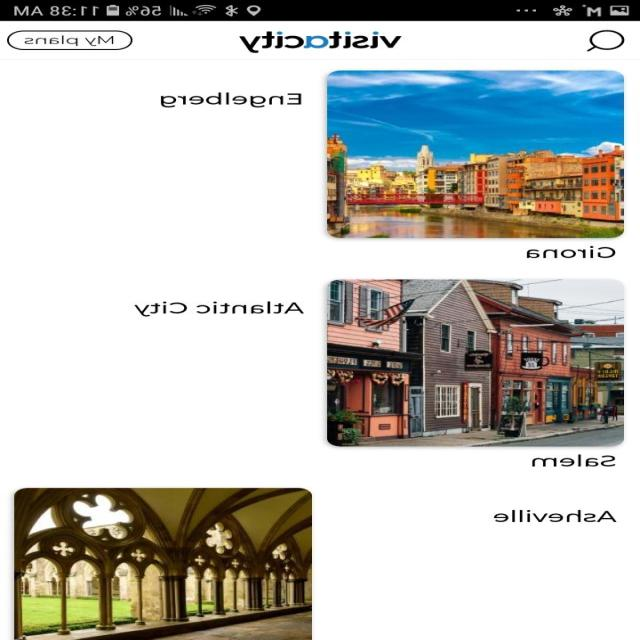Icon: (586, 29, 626, 52)
Image: (327, 70, 625, 238), (327, 279, 625, 446), (14, 487, 313, 640), (239, 30, 403, 53)
Text: (134, 301, 304, 317), (160, 92, 302, 108), (493, 509, 617, 522), (526, 246, 616, 258), (532, 454, 616, 466)
TextButton: (8, 30, 134, 50)
